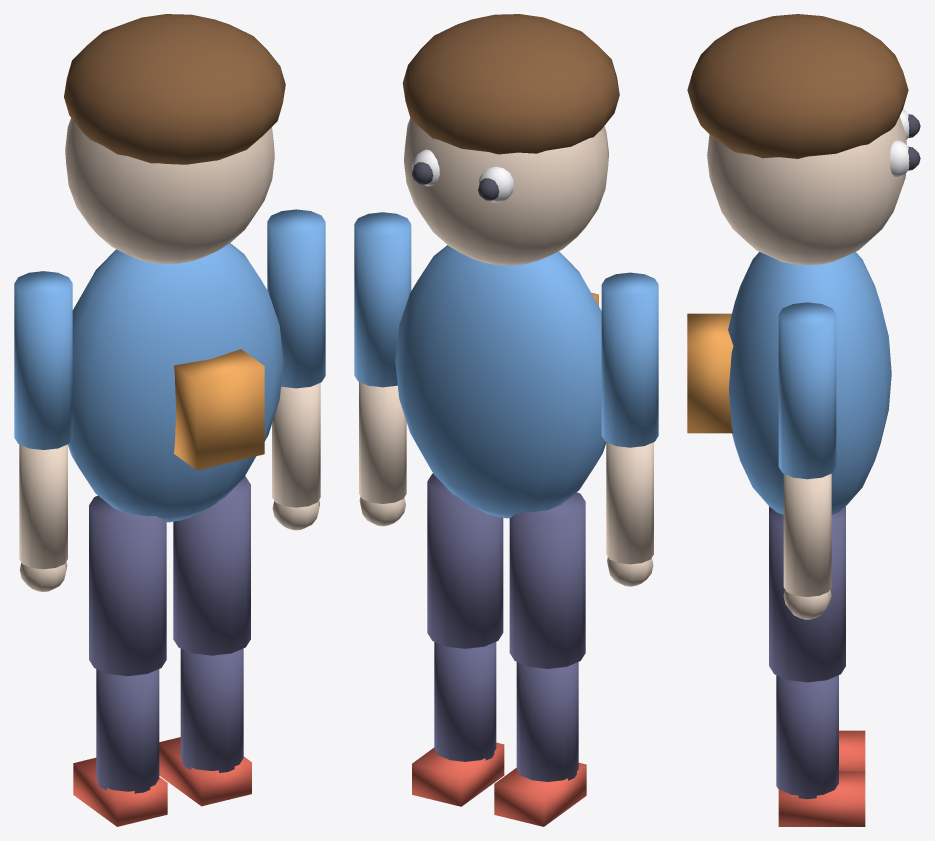
File: mesh_player_character.fbx
The picture shows the model from 3 angles, left to right: view 1: azimuth 30°, elevation 25°; view 2: azimuth 150°, elevation 25°; view 3: azimuth 270°, elevation 25°; orthographic projection. The views are drawn at different scales.
Parts seen in each view (by area): view 1: PlayerCharacter; view 2: PlayerCharacter; view 3: PlayerCharacter.
Boxes of the visible parts, x1=… form: PlayerCharacter: x1=14, y1=14, x2=325, y2=826; PlayerCharacter: x1=354, y1=14, x2=658, y2=826; PlayerCharacter: x1=687, y1=14, x2=920, y2=826.
Size of the model in its own units: 0.72 by 1.75 by 0.485.
